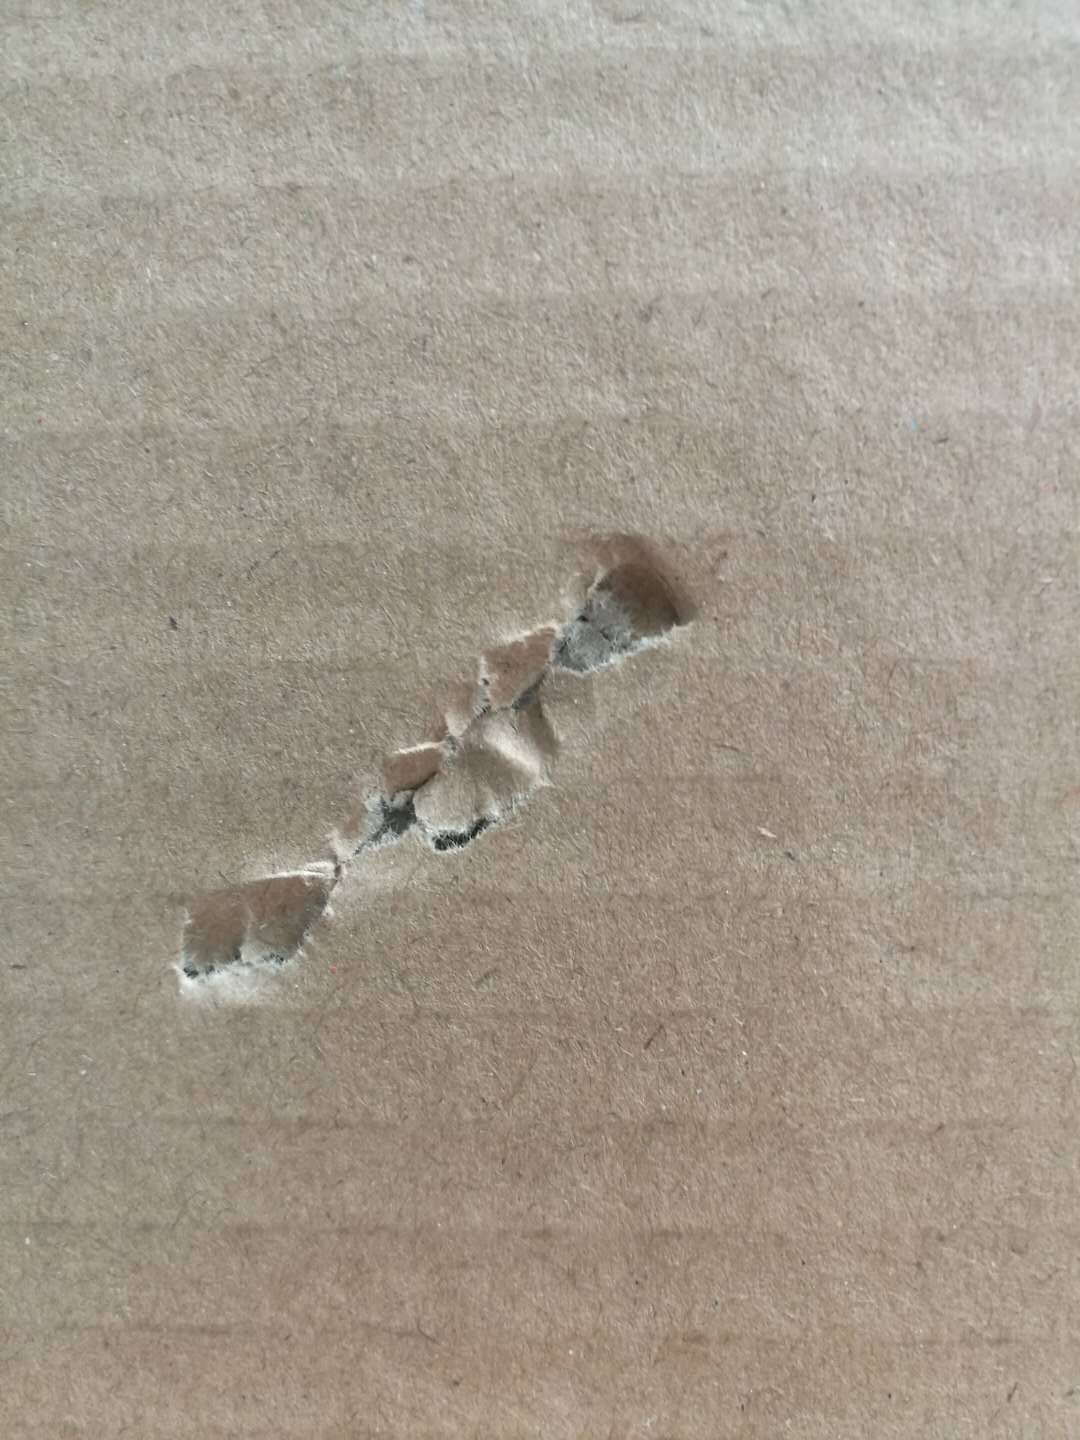defect: (115, 515, 743, 1033)
